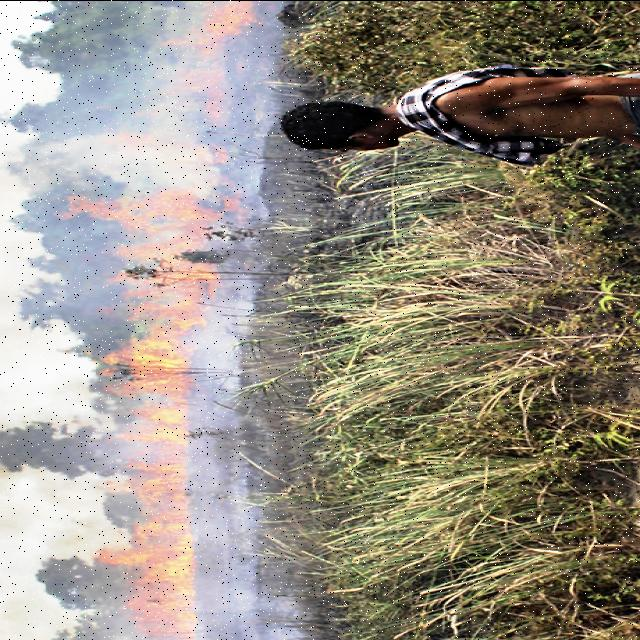api: (127, 178, 197, 639), (204, 2, 258, 38)
asap: (35, 45, 271, 171), (6, 479, 111, 563), (2, 330, 87, 429), (197, 581, 309, 640)
